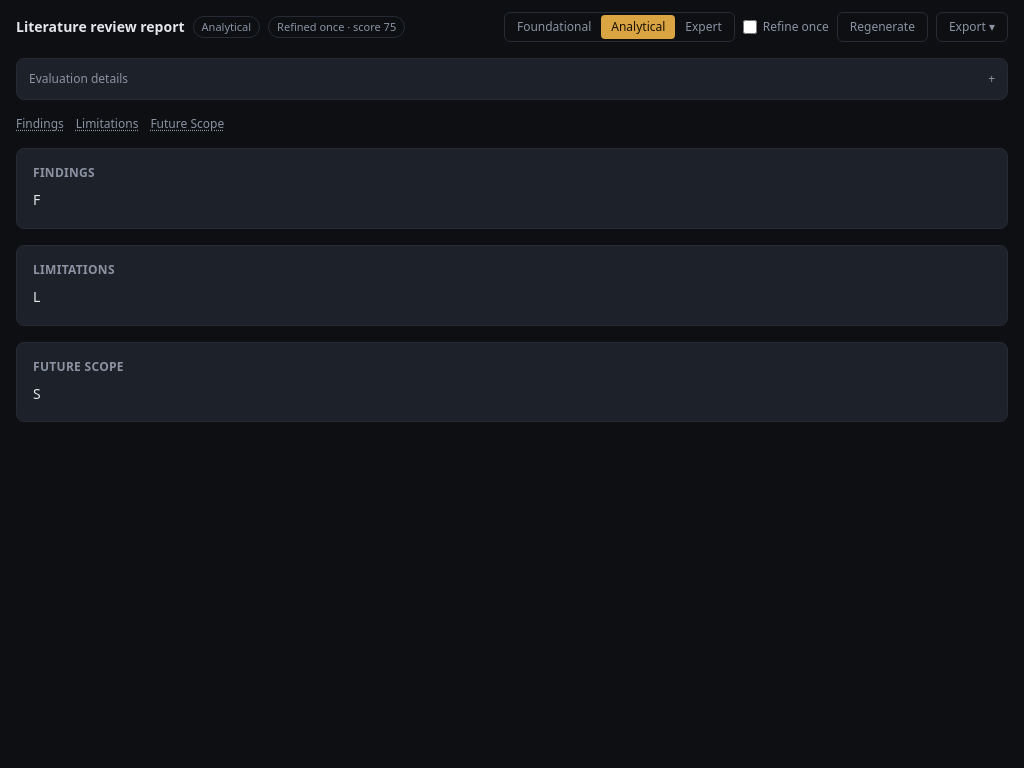
Scenario: ReportModePanel -- report-quality Phase R4.2: evaluation details disclosure › rounds>0 and final_score present: shows the score transition "Score N → M"
Click the button with test id "evaluation-details-toggle": [79, 78] box [29,71,995,87]
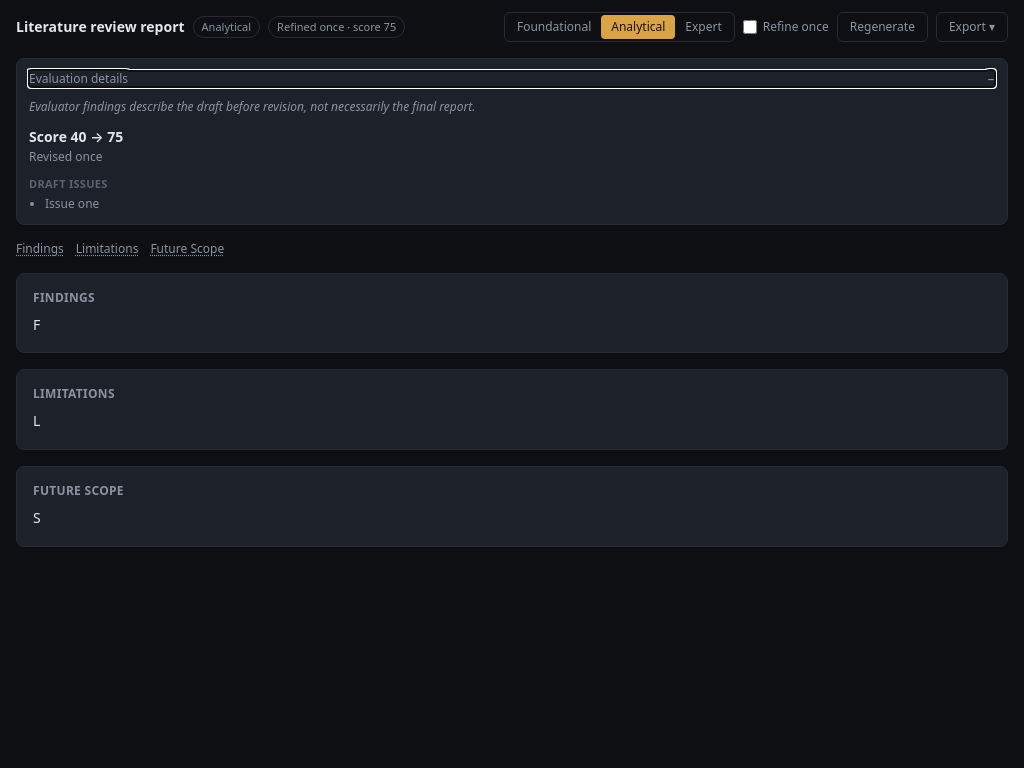
Expected: the element with test id "evaluation-details-score-summary" shows "Score 40 → 75", [29,127,123,165]
Expected: the element with test id "evaluation-details-score-summary" shows "Revised once", [29,148,102,165]
